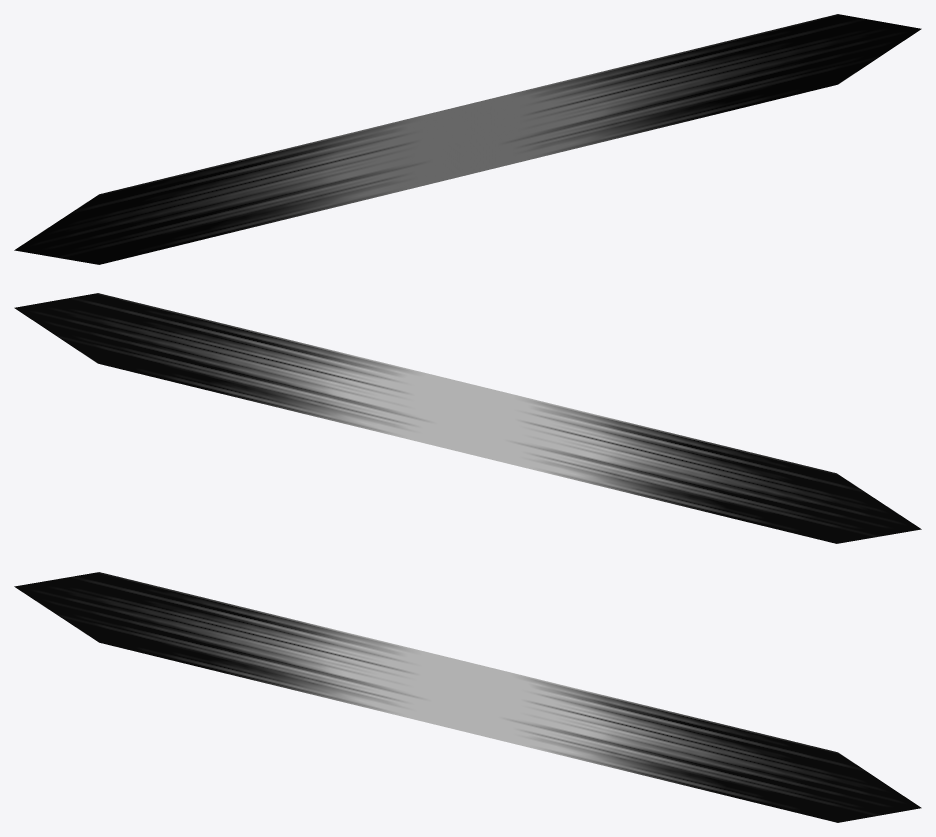
3 renders of one model, top to bottom at view 1: azimuth 30°, elevation 25°; view 2: azimuth 150°, elevation 25°; view 3: azimuth 330°, elevation 25°, orthographic.
Visible parts, largest first — view 1: Joint_0_Object_0; view 2: Joint_0_Object_0; view 3: Joint_0_Object_0.
Part boxes in pixels (<box>): Joint_0_Object_0: <box>14,14,921,264</box>; Joint_0_Object_0: <box>14,293,921,543</box>; Joint_0_Object_0: <box>14,572,921,822</box>.
Bounding box in the file's own units: 214 × 15.92 × 0.
1 material, 1 textured.
